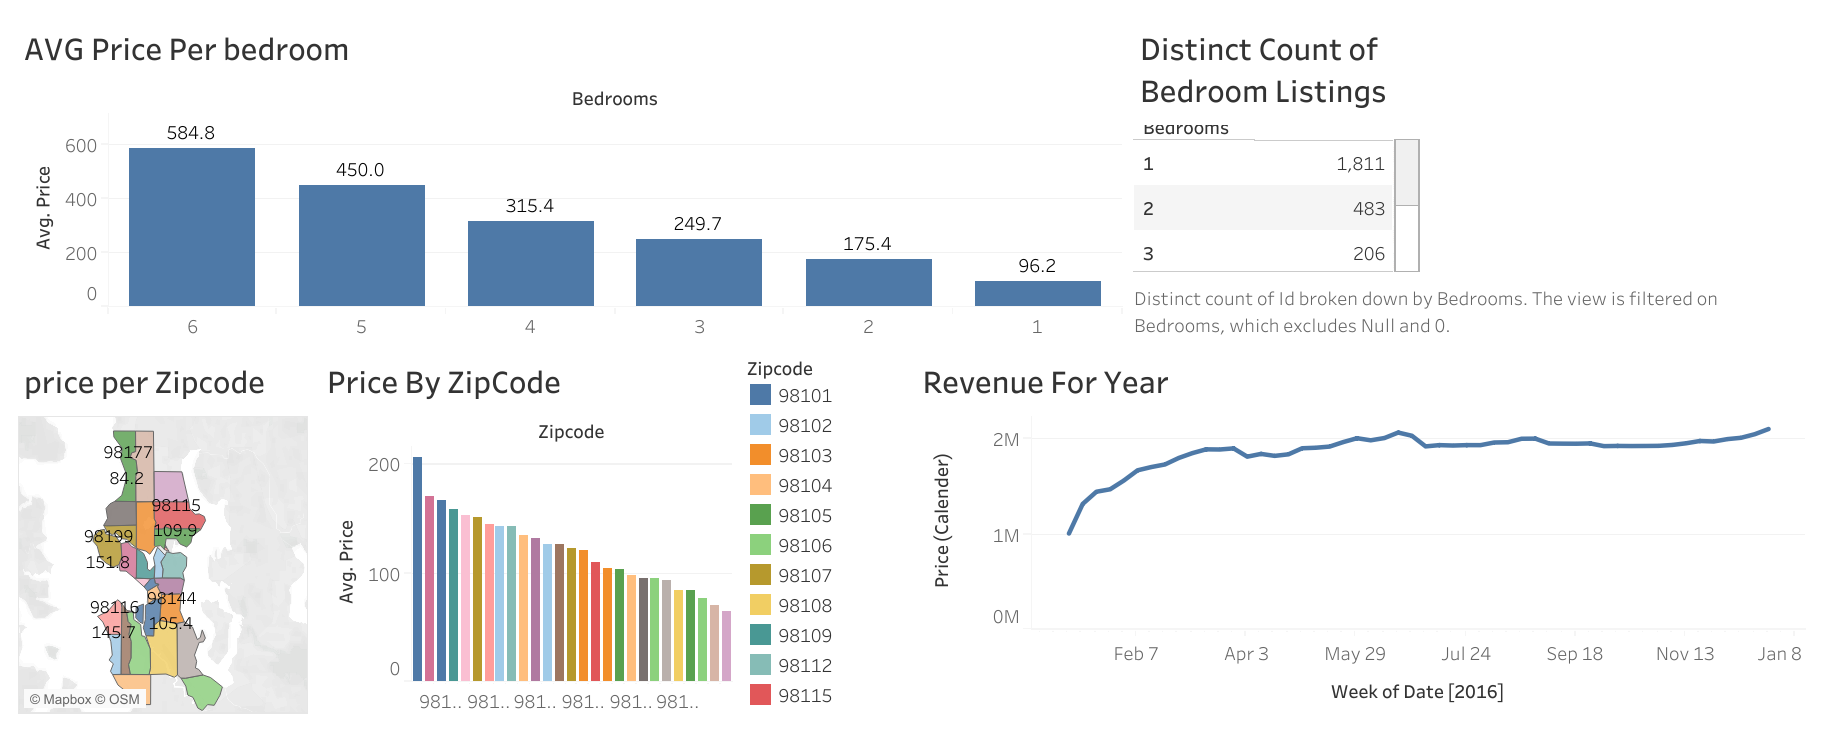

The page's visual inventory and layout, read from the dashboard file:
{"tool":"tableau","page":{"name":"Dashboard 1","canvas":[1000,1000],"units":"permille","ordinal":0},"visuals":[{"type":"worksheet","title":"Sheet 4","mark":"Automatic","rows":["price"],"cols":["bedrooms"],"box":[5,10.7,614.7,459.8]},{"type":"worksheet","title":"Sheet 5","mark":"Automatic","rows":["bedrooms"],"box":[619.7,10.7,375.3,459.8]},{"type":"worksheet","title":"Sheet 2","mark":"Multipolygon","box":[5,470.5,166.9,518.8]},{"type":"worksheet","title":"Sheet 1","mark":"Automatic","rows":["price"],"cols":["zipcode"],"box":[171.9,470.5,233.4,518.8]},{"type":"legend","title":"Sheet 1","param":"[federated.0tzrncd13fkwms1f7lcag1wm3wgg].[none:zipcode:ok]","box":[405.2,470.5,94.8,518.8]},{"type":"worksheet","title":"Sheet 3","mark":"Automatic","rows":["price (calender)"],"cols":["date"],"box":[500,470.5,495,518.8]}]}

Visuals, with their boxes on the dashboard's canvas, which has no fixed pixel size, in thousandths of its width and height (x1, y1, x2, y2). These are canvas units, not pixel positions in the 1821x731 screenshot, which may show the page scaled, cropped or inside an application window:
"Sheet 4" worksheet: l=5, t=11, r=620, b=470
"Sheet 5" worksheet: l=620, t=11, r=995, b=470
"Sheet 2" worksheet (Multipolygon marks): l=5, t=470, r=172, b=989
"Sheet 1" worksheet: l=172, t=470, r=405, b=989
"Sheet 1" legend: l=405, t=470, r=500, b=989
"Sheet 3" worksheet: l=500, t=470, r=995, b=989
